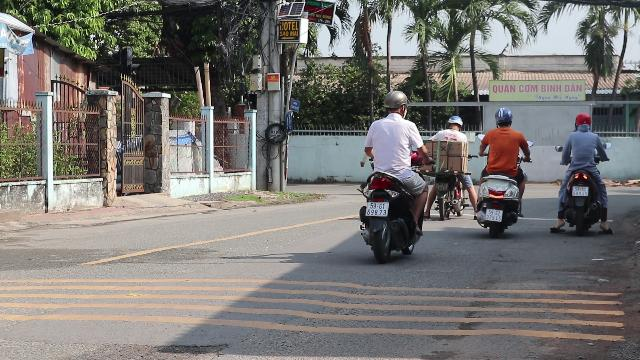helmet: (382, 89, 408, 116), (494, 107, 514, 127), (574, 112, 592, 130), (446, 115, 462, 130)
licenseplate: (366, 202, 388, 216), (485, 208, 503, 222), (573, 188, 589, 196)
motorcyclist: (352, 89, 430, 261), (471, 107, 529, 238), (552, 112, 612, 234), (426, 114, 474, 219)
